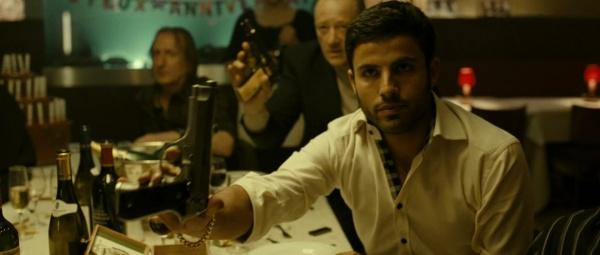Gun: (113, 83, 219, 225)
